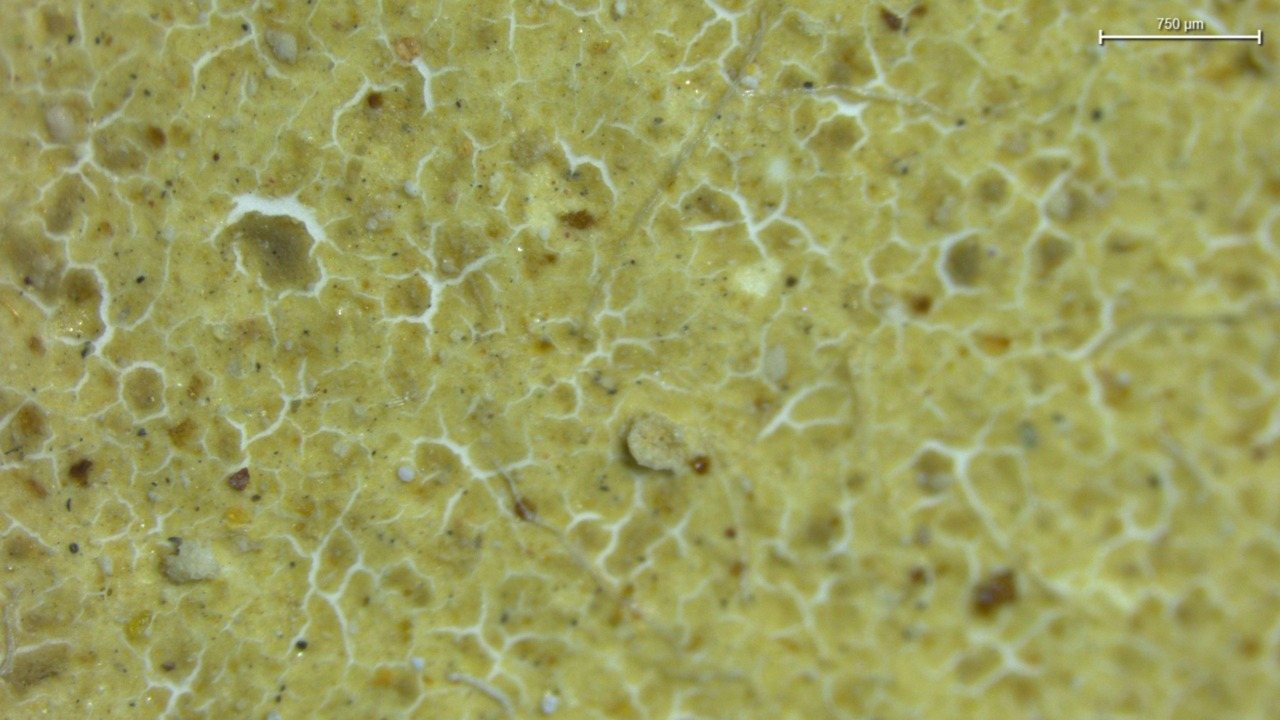microplastic_fragment: (626, 412, 689, 474), (164, 541, 220, 583)
